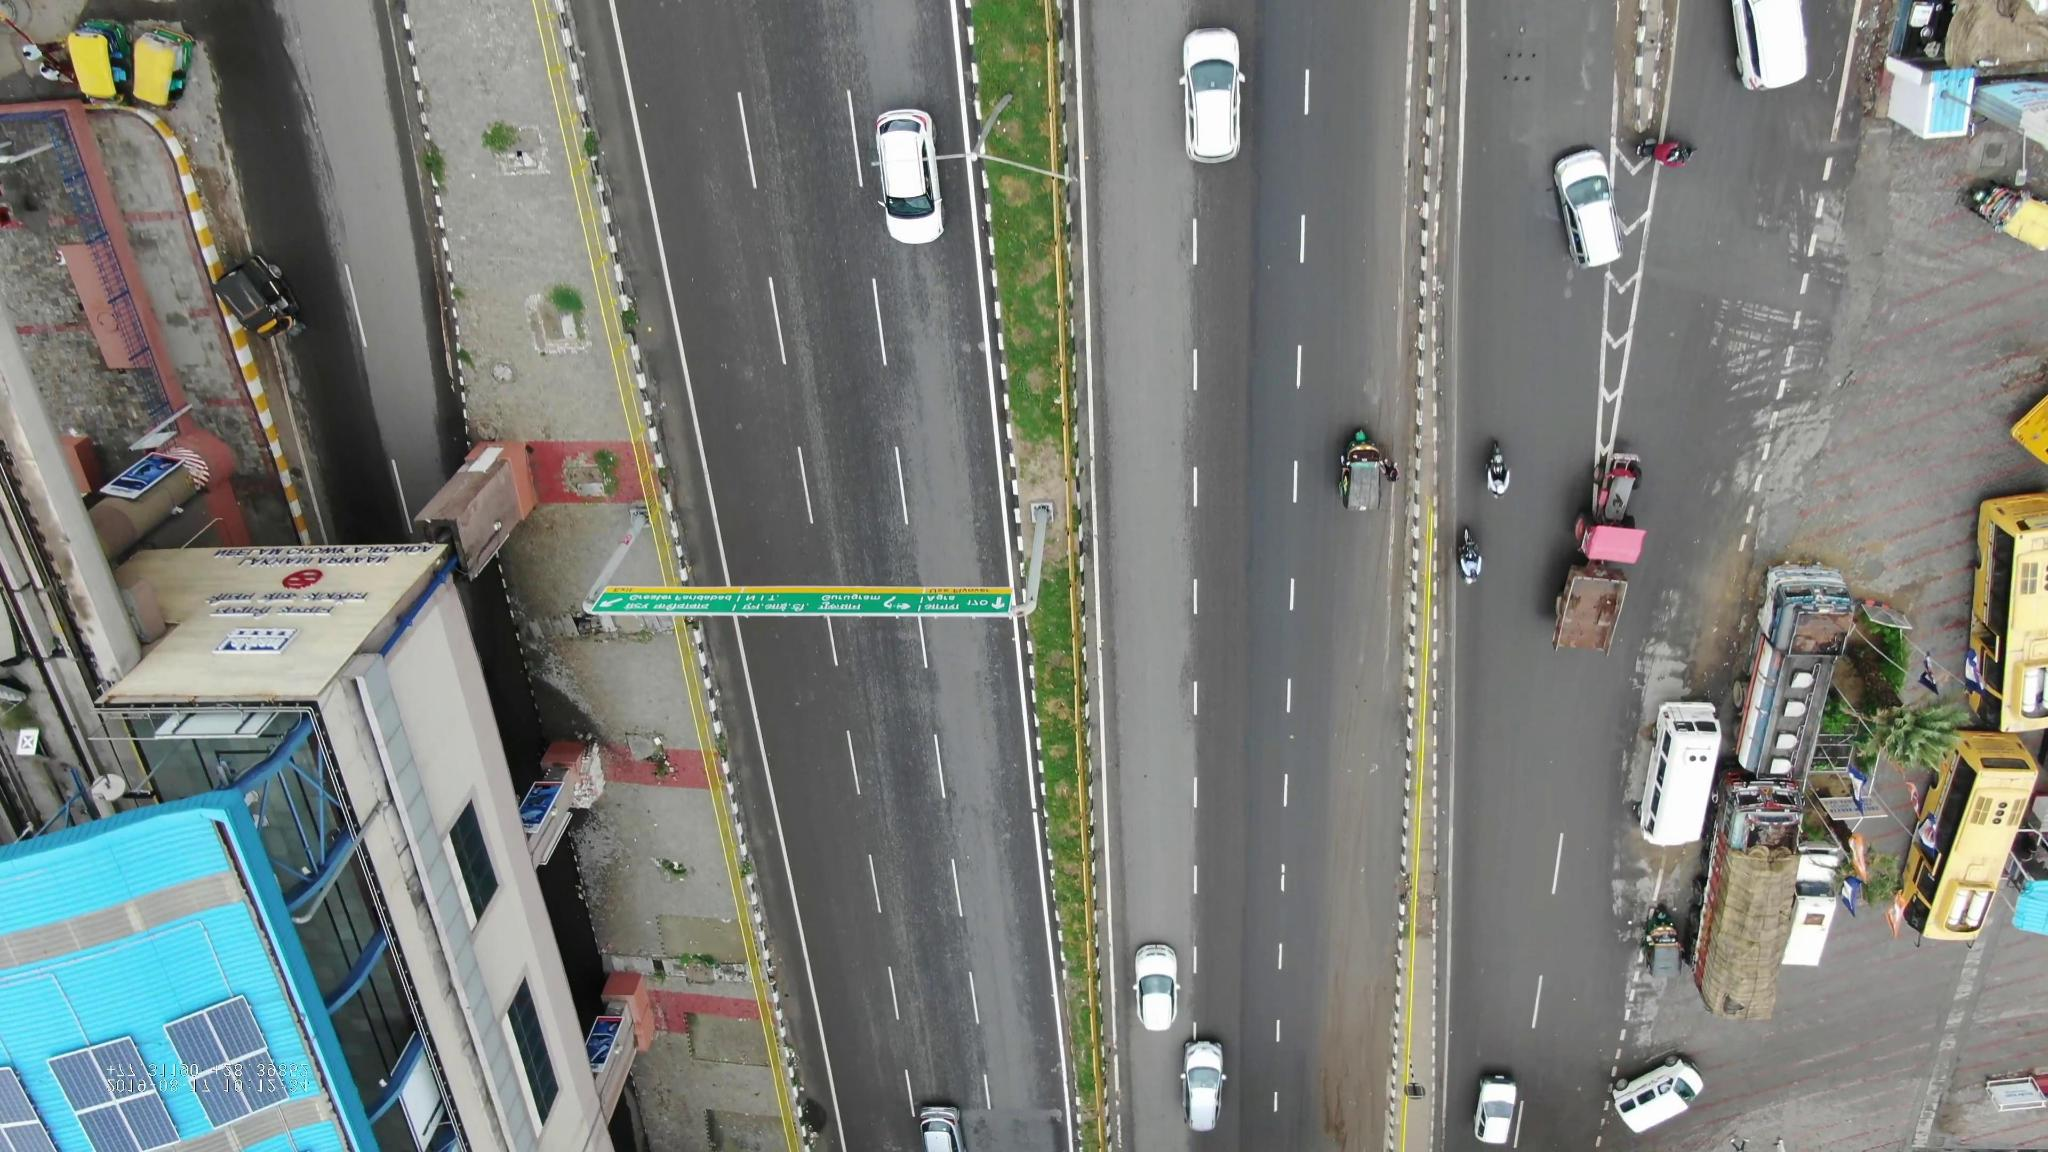Muddy_road: (1301, 767, 1385, 1127), (1331, 518, 1400, 745)
